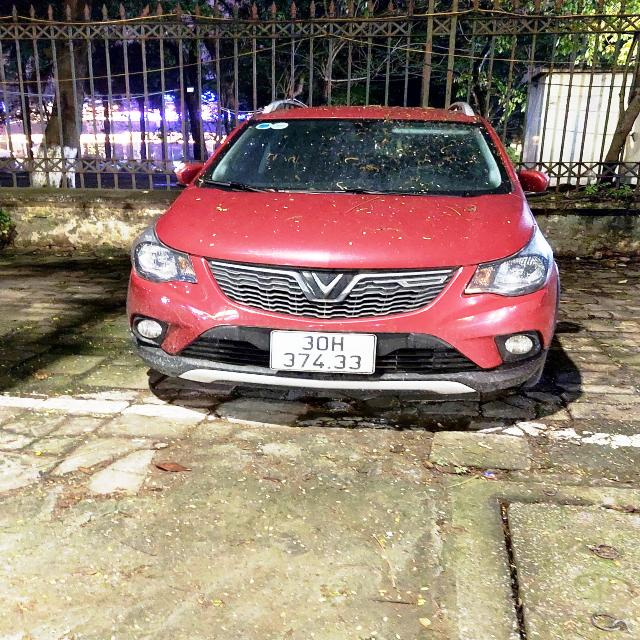license_plate: (268, 330, 381, 378)
